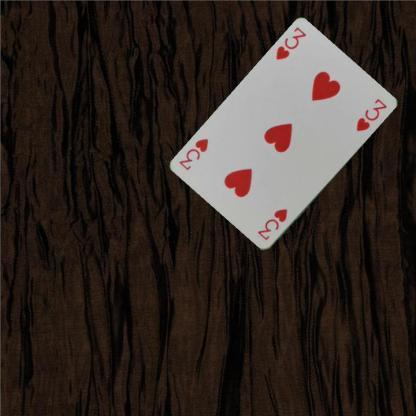3h: (274, 24, 308, 62), (255, 206, 289, 242)
